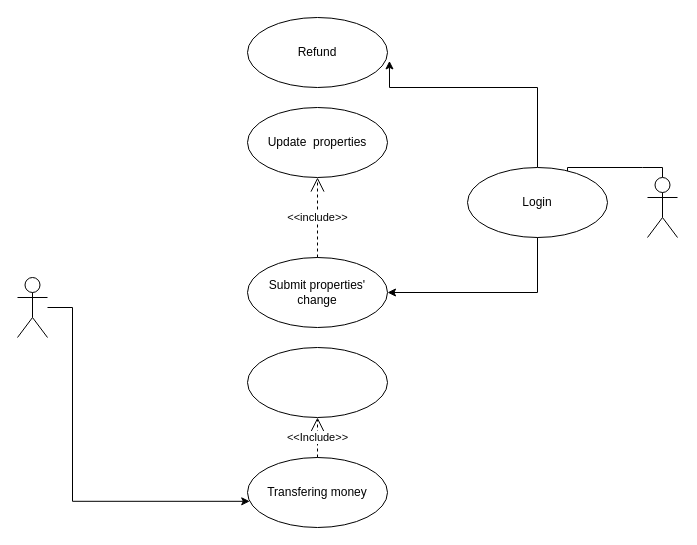
Image size: 697x545. Some labels were removed from this diagram. The shapes that lost their labels are listed below. From the top down, each one's centre as x and y in pixels, then its label:
At point (662, 207): "Admin".
At point (32, 307): "User".
At point (317, 382): "adding card details".
